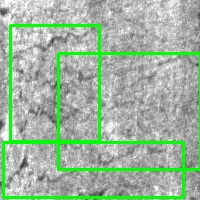crazing: (58, 53, 200, 169), (10, 26, 99, 141), (3, 142, 183, 197)
